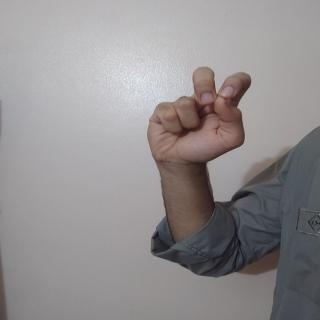QAAF: (142, 65, 252, 178)
